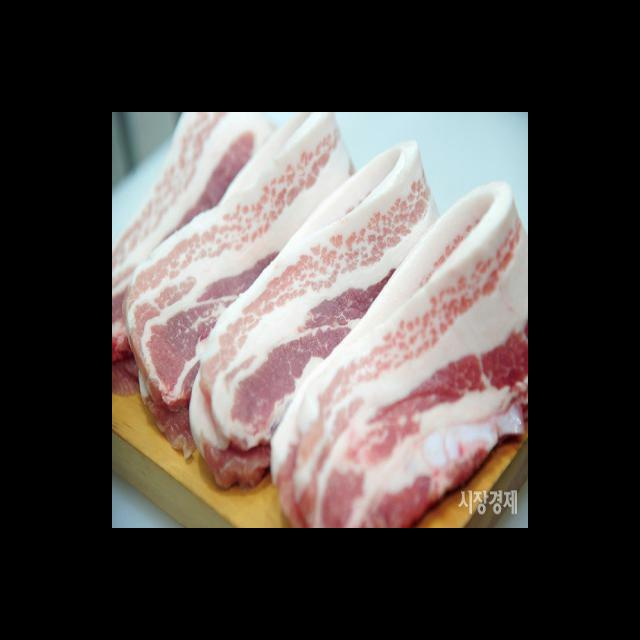pork: (112, 116, 526, 482)
